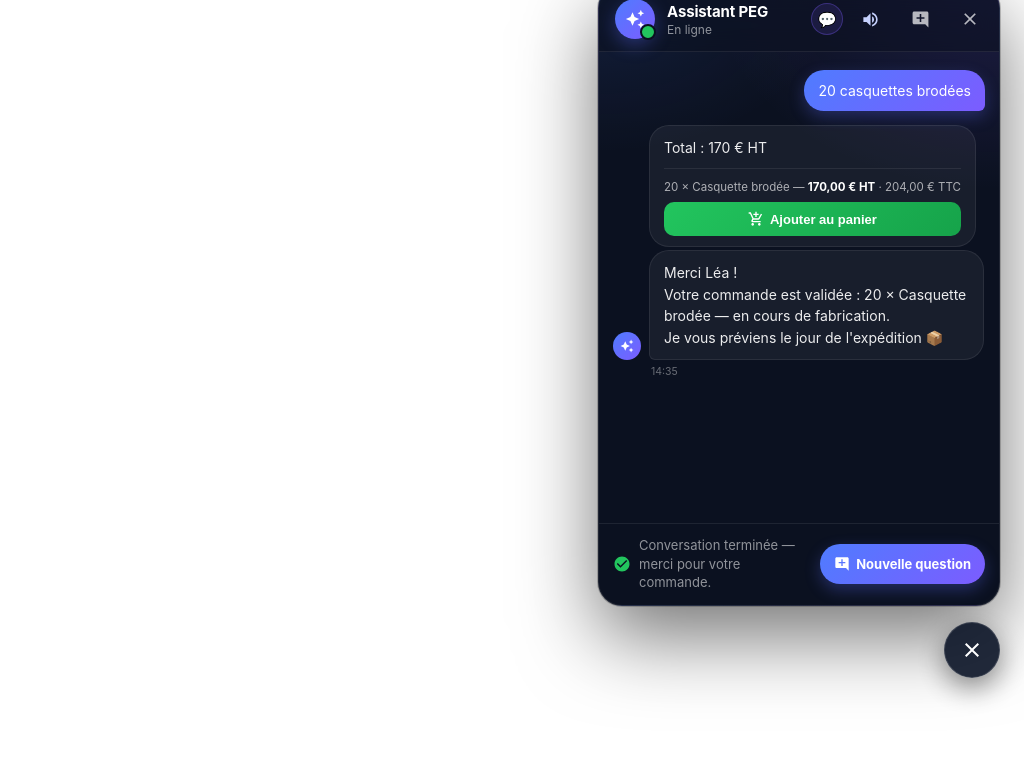
Test: Chat — clôture après une commande issue du chat › le widget s’ouvre sur la réponse du serveur ; saisie remplacée ; « Nouvelle question » la rend
This screenshot has width=1024, height=768.
Click the button "Nouvelle question" at (903, 564), box 820,544 -> 985,584
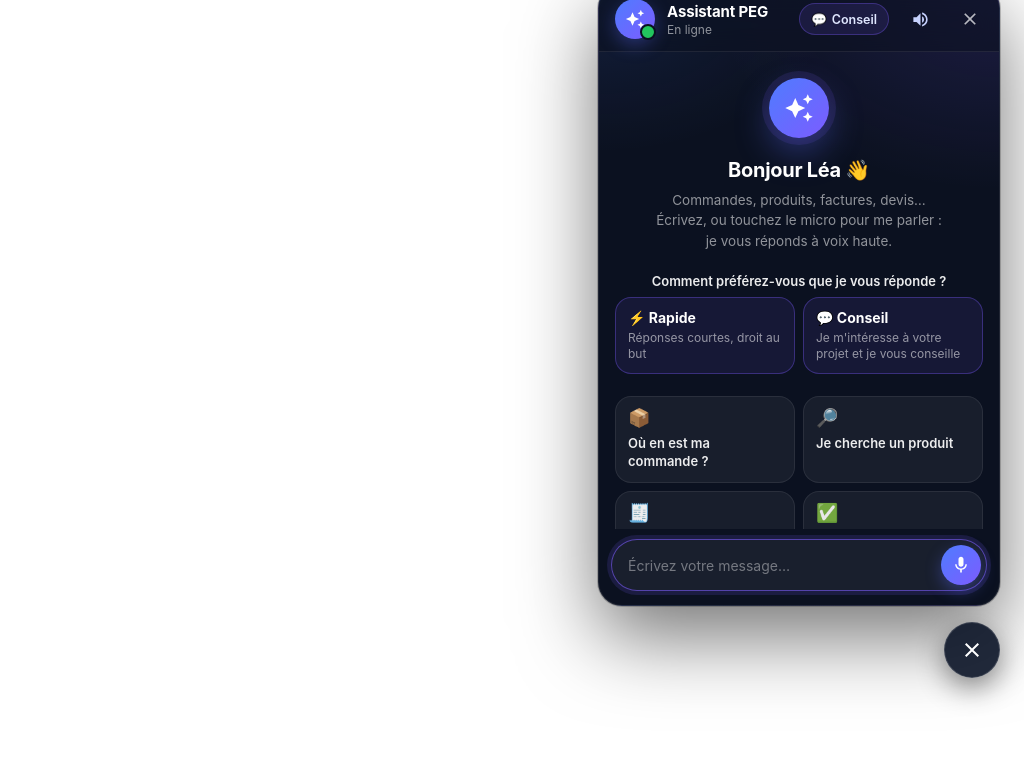
Now the text box with placeholder "Écrivez votre message…" is shown, box 628,547 -> 933,585
